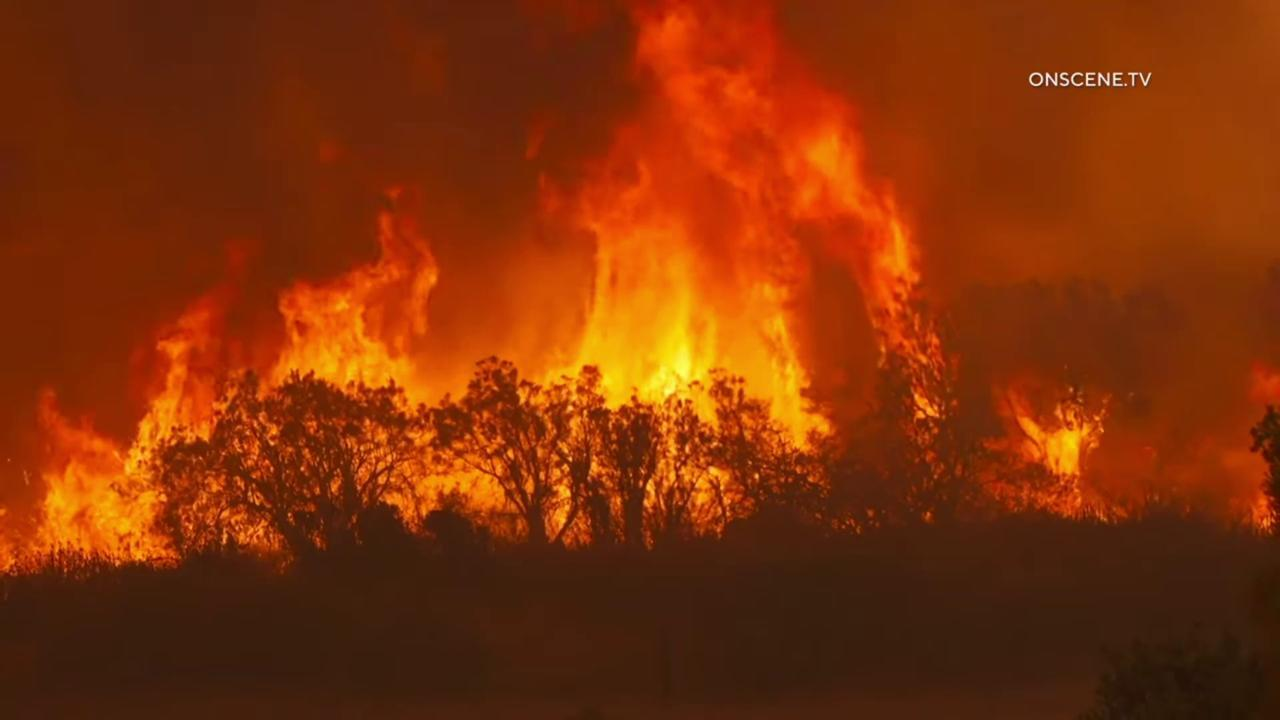fire: (0, 0, 968, 576), (972, 373, 1136, 526), (1235, 488, 1280, 539)
smoke: (0, 0, 1280, 582)
